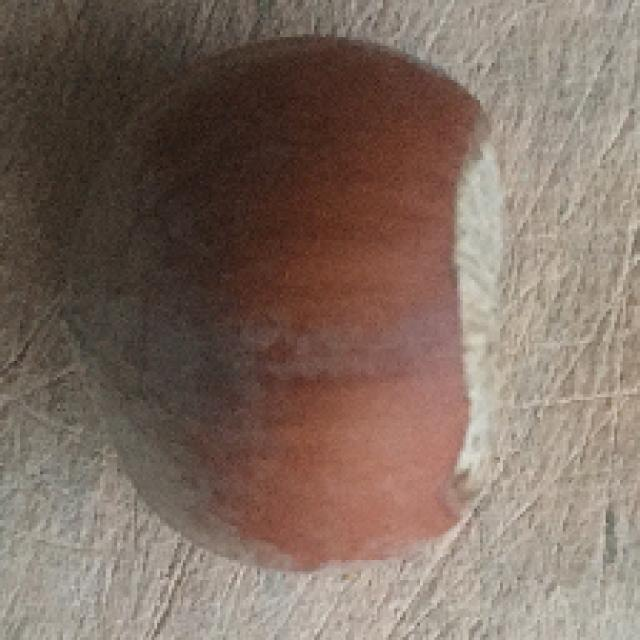qualityHazelnut: (35, 29, 516, 570)
